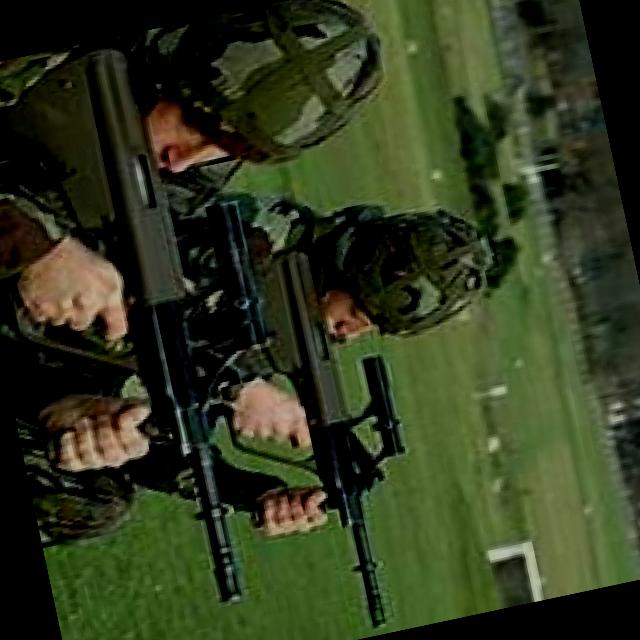long weapon: (0, 39, 270, 626), (260, 224, 446, 640)
